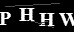H: (18, 7, 36, 22), (38, 12, 56, 27)
P: (1, 11, 13, 26)
W: (58, 12, 74, 27)
